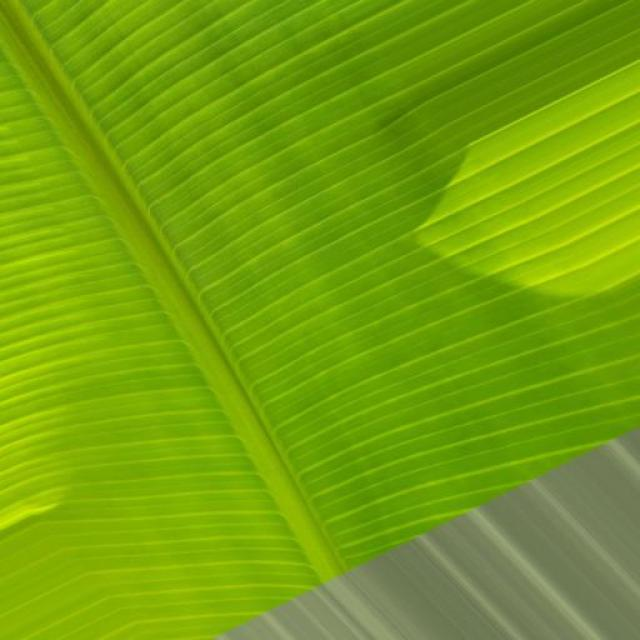Black_leaf_spot: (4, 0, 529, 560)
